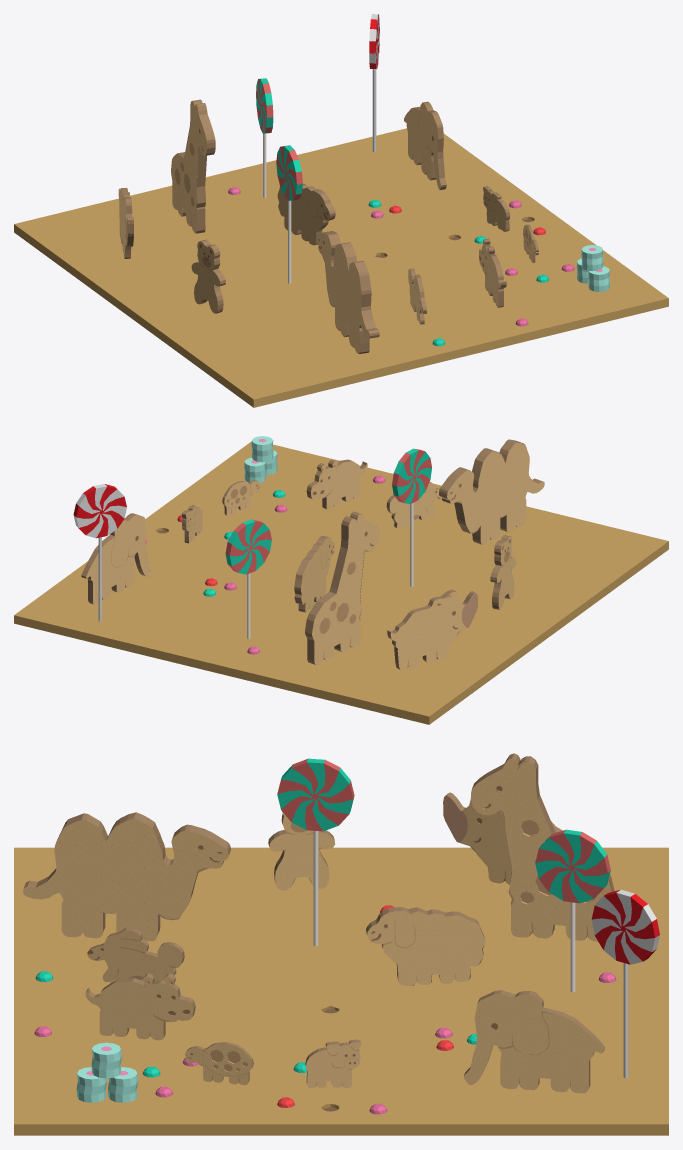
Rendered from D2_ANIMAL_COOKIE_FOREST.fbx.
3 renders of one model, top to bottom at view 1: azimuth 30°, elevation 25°; view 2: azimuth 150°, elevation 25°; view 3: azimuth 270°, elevation 25°, orthographic. The views are drawn at different scales.
Visible parts, largest first — view 1: Cube.017, Plane.028, Plane.018, Plane.022, Plane.020, Plane.031, Cylinder.045, Plane.026, Cylinder.047, Cylinder.046, Plane.025, Plane.029 (+1 smaller); view 2: Cube.017, Plane.028, Plane.018, Plane.025, Plane.022, Cylinder.046, Cylinder.047, Plane.026, Cylinder.045, Plane.020, Plane.031, Plane.021 (+4 smaller); view 3: Cube.017, Plane.028, Plane.022, Plane.018, Plane.020, Cylinder.045, Plane.026, Cylinder.047, Cylinder.046, Plane.021, Plane.025, Plane.031 (+5 smaller).
Part boxes in pixels (x1,y1,x2,y2): Cube.017: [14, 128, 668, 407]; Plane.028: [316, 231, 379, 353]; Plane.018: [171, 99, 215, 233]; Plane.022: [404, 101, 446, 189]; Plane.020: [277, 183, 335, 245]; Plane.031: [191, 239, 225, 313]; Cylinder.045: [276, 145, 302, 283]; Plane.026: [479, 238, 506, 307]; Cylinder.047: [256, 78, 273, 197]; Cylinder.046: [369, 14, 379, 152]; Plane.025: [118, 188, 133, 258]; Plane.029: [483, 186, 509, 231]; Cube.017: [14, 441, 668, 724]; Plane.028: [439, 439, 544, 544]; Plane.018: [305, 511, 379, 664]; Plane.025: [387, 589, 477, 670]; Plane.022: [81, 513, 151, 604]; Cylinder.046: [73, 484, 126, 621]; Cylinder.047: [225, 519, 271, 638]; Plane.026: [306, 459, 367, 509]; Cylinder.045: [392, 448, 431, 586]; Plane.020: [294, 536, 334, 612]; Plane.031: [490, 535, 516, 609]; Plane.021: [386, 482, 442, 528]; Cube.017: [14, 847, 668, 1135]; Plane.028: [23, 812, 230, 941]; Plane.022: [464, 990, 604, 1093]; Plane.018: [470, 753, 614, 941]; Plane.020: [366, 907, 485, 985]; Cylinder.045: [277, 758, 354, 945]; Plane.026: [85, 973, 195, 1040]; Cylinder.047: [535, 829, 610, 992]; Cylinder.046: [591, 889, 659, 1078]; Plane.021: [87, 927, 184, 982]; Plane.025: [443, 792, 562, 884]; Plane.031: [268, 811, 334, 890].
Size of the model in its own units: 2089 by 688 by 2089.
Materials: 22 (11 with a texture image).
